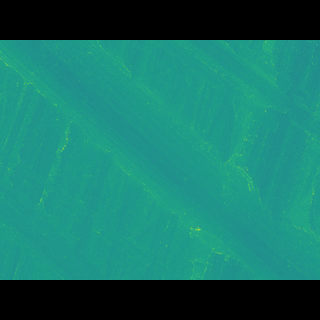Loch: (0, 69, 319, 251), (152, 70, 319, 167), (0, 168, 115, 249)
